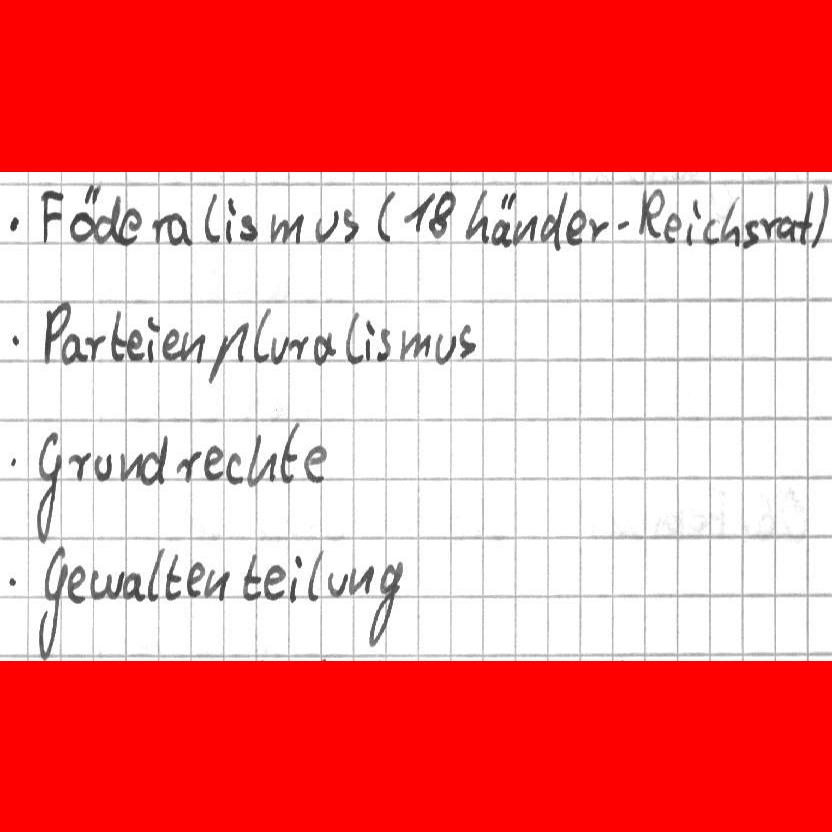Char: (35, 549, 66, 657), (33, 430, 62, 544), (368, 562, 401, 644), (207, 322, 249, 383), (39, 299, 71, 365), (68, 183, 101, 245), (246, 431, 279, 489), (36, 186, 66, 248), (539, 189, 567, 248), (491, 186, 515, 249), (140, 433, 167, 488), (373, 188, 399, 244), (463, 187, 488, 244), (638, 187, 664, 241), (268, 210, 304, 248), (93, 188, 117, 245), (401, 192, 434, 233), (429, 189, 455, 240), (279, 420, 300, 483), (793, 189, 815, 247), (251, 306, 272, 363), (811, 185, 829, 250), (241, 552, 262, 604), (145, 546, 164, 602), (343, 312, 362, 366), (399, 328, 428, 363), (302, 444, 326, 486), (563, 206, 587, 248), (164, 211, 191, 248), (720, 197, 741, 244), (118, 207, 142, 247), (307, 547, 325, 600), (511, 212, 538, 247), (90, 566, 116, 602), (348, 563, 374, 599), (201, 193, 220, 242), (58, 331, 84, 366), (67, 563, 87, 608), (263, 563, 286, 602), (315, 207, 339, 244), (165, 551, 182, 603), (180, 328, 205, 363), (175, 448, 200, 483), (118, 568, 142, 604), (204, 567, 229, 601), (434, 329, 456, 367), (312, 329, 335, 365), (282, 331, 307, 364), (118, 450, 143, 483), (109, 310, 125, 360), (202, 443, 223, 481), (84, 331, 107, 364), (68, 450, 91, 482), (288, 554, 302, 606), (185, 561, 204, 599), (685, 198, 700, 246), (341, 206, 358, 246), (326, 568, 347, 600), (458, 323, 476, 360), (145, 313, 158, 364), (160, 328, 179, 361), (270, 335, 290, 366), (224, 452, 243, 484), (126, 326, 143, 361), (748, 217, 770, 244), (589, 216, 610, 244), (238, 213, 258, 242), (224, 197, 236, 243), (664, 213, 682, 243), (94, 452, 112, 481), (773, 217, 794, 241), (150, 212, 165, 245), (702, 217, 719, 245), (378, 327, 392, 361), (364, 320, 375, 362), (6, 329, 22, 350), (4, 572, 19, 592), (6, 215, 21, 235), (615, 216, 631, 233), (5, 453, 19, 470)
